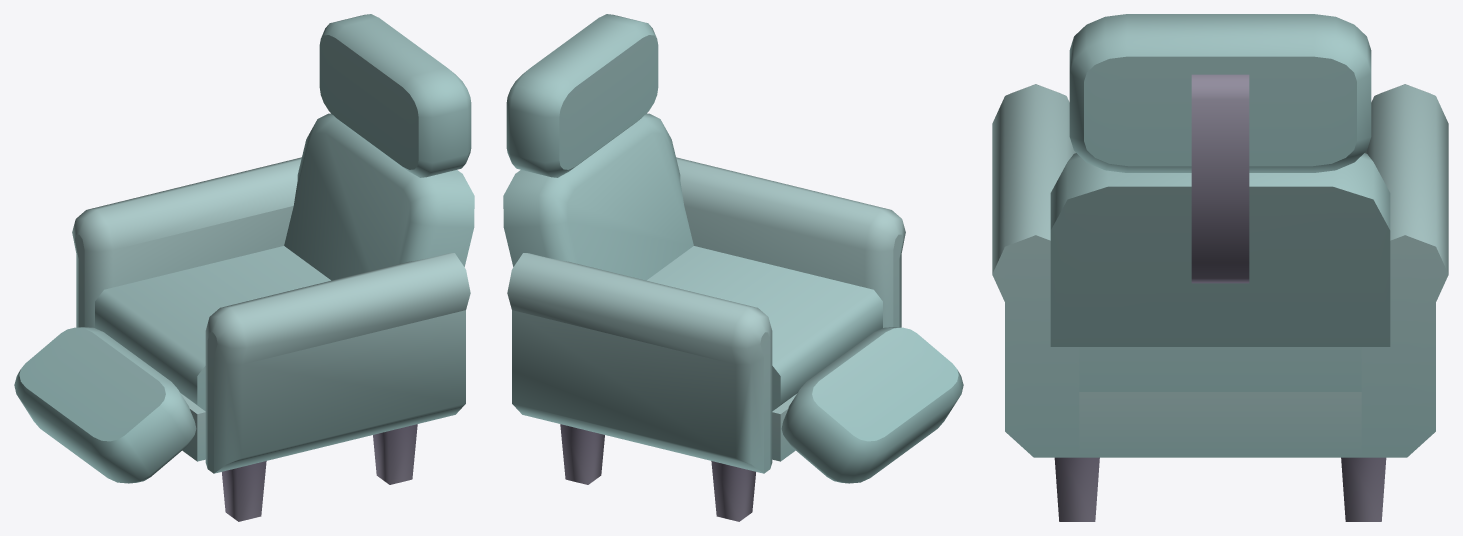
Rendered from budapest-chair-headrest-footrest.glb.
The picture shows the model from 3 angles, left to right: view 1: azimuth 30°, elevation 25°; view 2: azimuth 150°, elevation 25°; view 3: azimuth 270°, elevation 25°; orthographic projection. The views are drawn at different scales.
Parts seen in each view (by area): view 1: budapest-chair-headrest-footrest; view 2: budapest-chair-headrest-footrest; view 3: budapest-chair-headrest-footrest.
Part boxes in pixels (x1=…): budapest-chair-headrest-footrest: x1=14, y1=14, x2=474, y2=521; budapest-chair-headrest-footrest: x1=503, y1=14, x2=963, y2=521; budapest-chair-headrest-footrest: x1=992, y1=14, x2=1448, y2=521.
Bounding box in the file's own units: 1.07 × 1.01 × 0.796.
